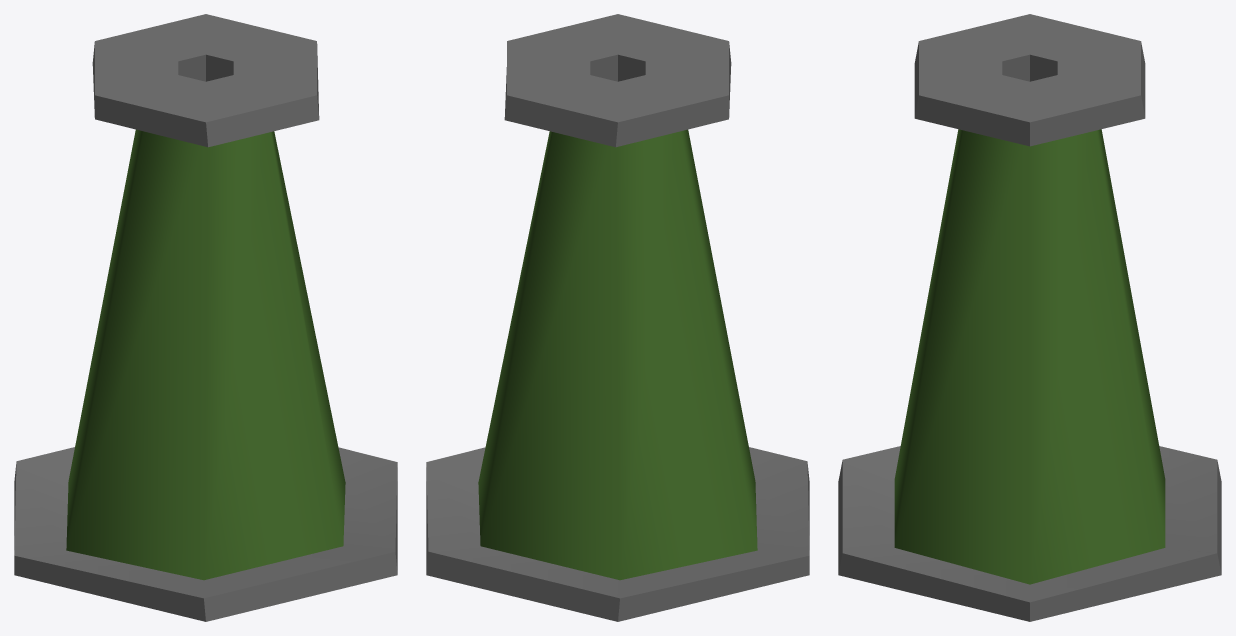
File: Refined Fiber.fbx
3 views of the same model, side by side, from view 1: azimuth 30°, elevation 25°; view 2: azimuth 150°, elevation 25°; view 3: azimuth 270°, elevation 25° (orthographic).
Visible parts, largest first — view 1: Refined_Fiber; view 2: Refined_Fiber; view 3: Refined_Fiber.
Part boxes in pixels (box(x1,y1,x2,y2)): Refined_Fiber: box(14, 14, 397, 621); Refined_Fiber: box(426, 14, 809, 621); Refined_Fiber: box(838, 14, 1221, 621).
Size of the model in its own units: 1.07 by 1.23 by 0.9245.
